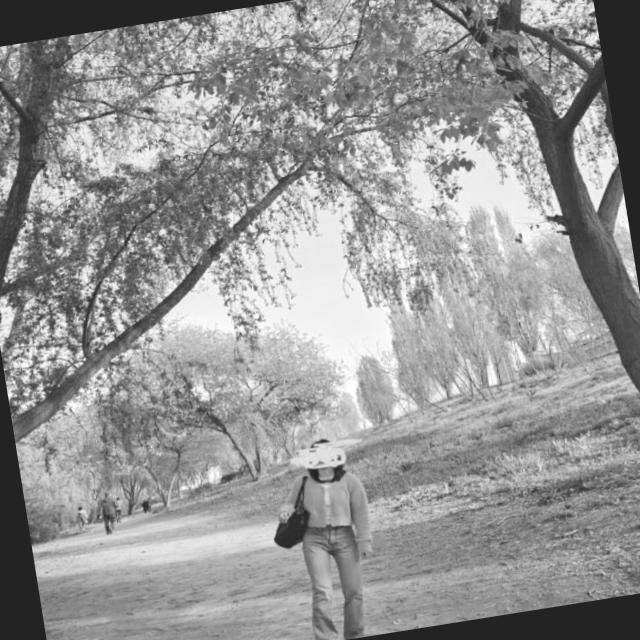cardigan: (274, 470, 376, 562)
denimpants: (296, 522, 372, 640)
